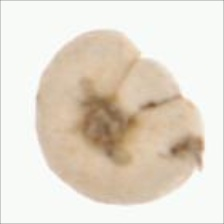L5: (72, 74, 137, 170), (115, 47, 185, 122)
L6: (29, 26, 209, 208)
